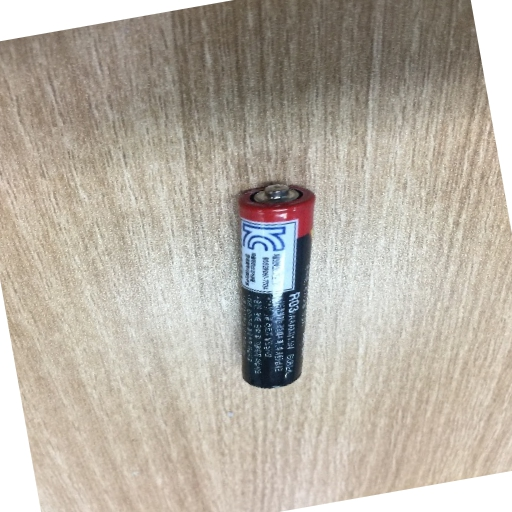Battery_0: (231, 176, 329, 397)
